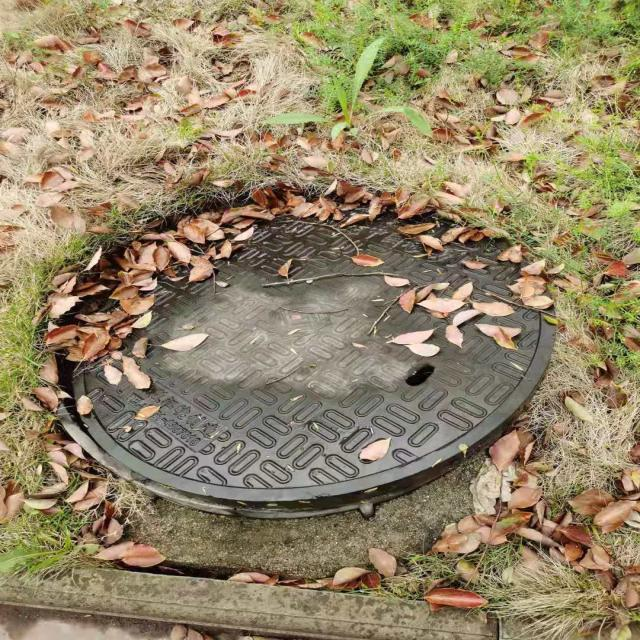Faulty: (41, 187, 554, 518)
